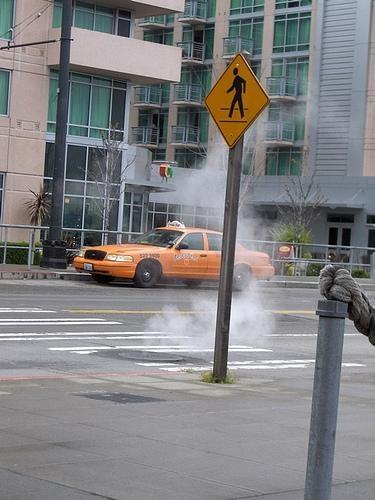car: (76, 227, 274, 290)
